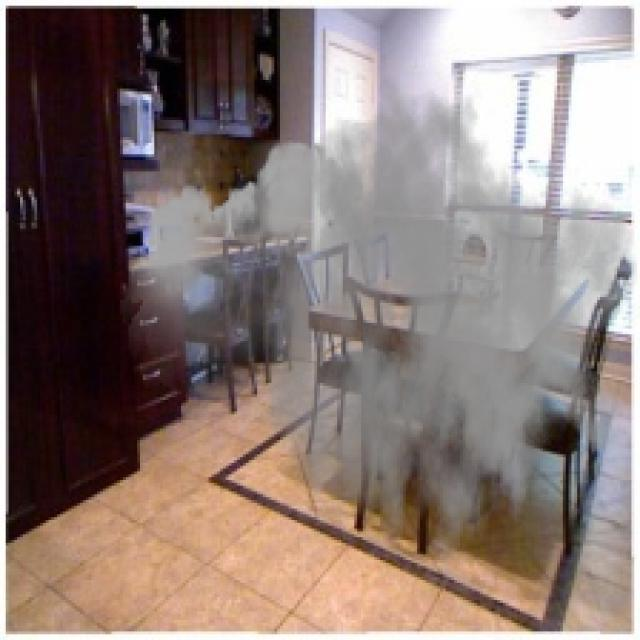Smoke: (120, 74, 637, 600)
